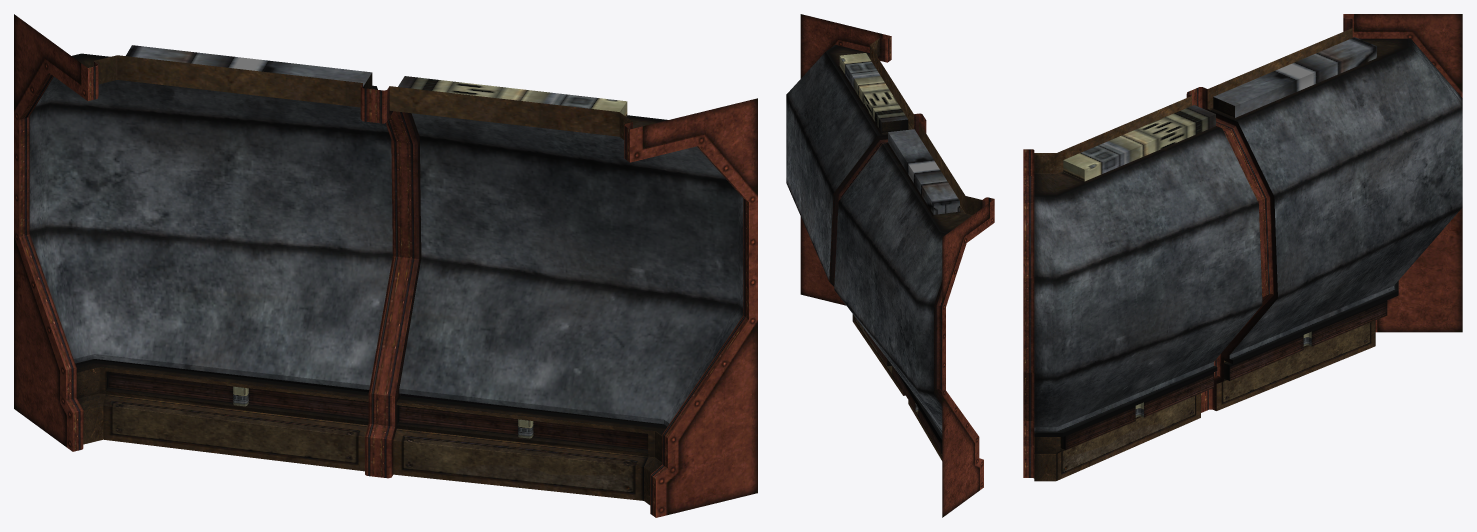
Rendered from bevelled_concave.dae.
The picture shows the model from 3 angles, left to right: view 1: azimuth 30°, elevation 25°; view 2: azimuth 150°, elevation 25°; view 3: azimuth 270°, elevation 25°; orthographic projection. The views are drawn at different scales.
Parts seen in each view (by area): view 1: polySurface526; view 2: polySurface526; view 3: polySurface526.
Boxes of the visible parts, left/top/right/bottom form: polySurface526: left=14, top=14, right=757, bottom=517; polySurface526: left=786, top=14, right=994, bottom=517; polySurface526: left=1023, top=14, right=1462, bottom=481.
Bounding box in the file's own units: 5 × 4 × 5.
